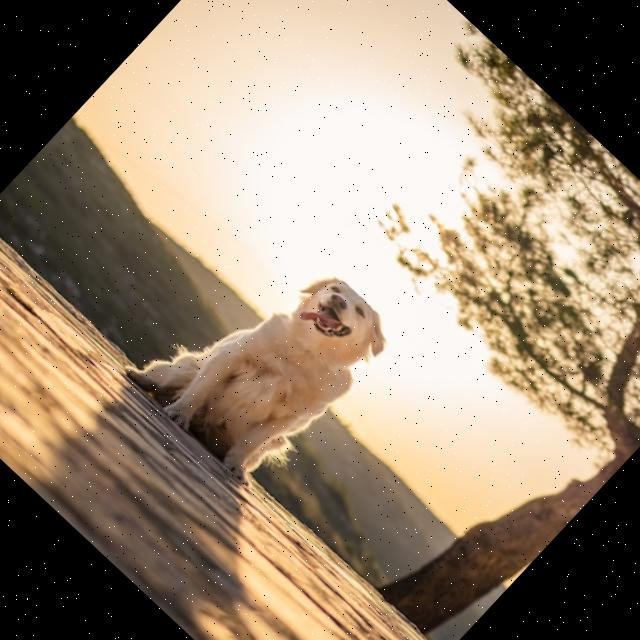Dog: (119, 208, 404, 495)
